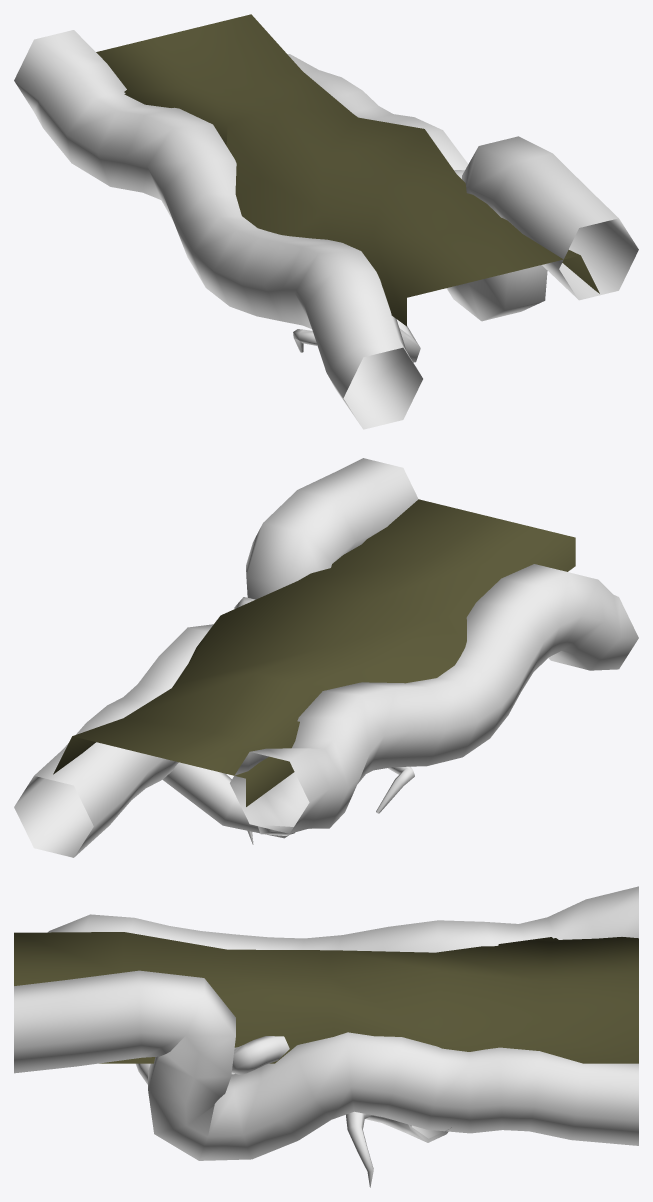
3 views of the same model, one above another, from view 1: azimuth 30°, elevation 25°; view 2: azimuth 150°, elevation 25°; view 3: azimuth 270°, elevation 25° (orthographic). The views are drawn at different scales.
Parts seen in each view (by area): view 1: NurbsPath.002, DummyPlane.003; view 2: NurbsPath.002, DummyPlane.003; view 3: NurbsPath.002, DummyPlane.003.
Boxes of the visible parts, x1,y1,x2,y2 form: NurbsPath.002: [14, 30, 638, 429]; DummyPlane.003: [96, 14, 599, 326]; NurbsPath.002: [14, 458, 638, 857]; DummyPlane.003: [53, 499, 575, 806]; NurbsPath.002: [14, 886, 638, 1187]; DummyPlane.003: [14, 932, 638, 1063].
Bounding box in the file's own units: 104 × 82.75 × 200.
